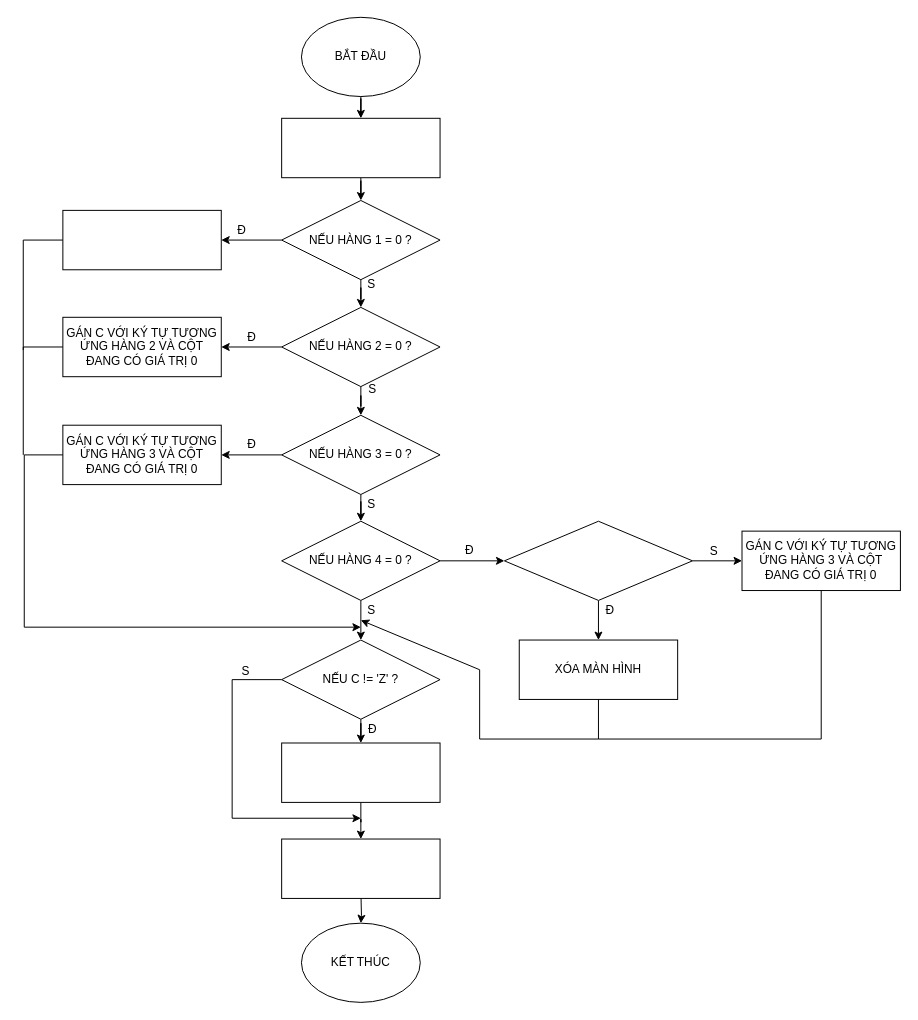
Image size: 918x1020. Some labels were removed from this diagram. Here are the shapes that lost their labels. From the top down, the box of each, then its label:
(281, 117, 440, 178): KHỞI TẠO BIẾN C = 'Z' GÁN 1 TRONG CÁC CỘT = 0, CÁC CỘT CÒN LẠI = 1
(62, 209, 221, 270): GÁN C VỚI KÝ TỰ TƯƠNG ỨNG HÀNG 1 VÀ CỘT ĐANG CÓ GIÁ TRỊ 0
(503, 520, 693, 600): NẾU KÝ TỰ ỨNG VỚI HÀNG 4 VÀ CỘT ĐANG CÓ GIÁ TRỊ 0 LÀ 'C'
(281, 742, 440, 802): GHI C LÊN LCD DELAY 200ms
(281, 838, 440, 898): TRẢ VỀ GIÁ TRỊ C
